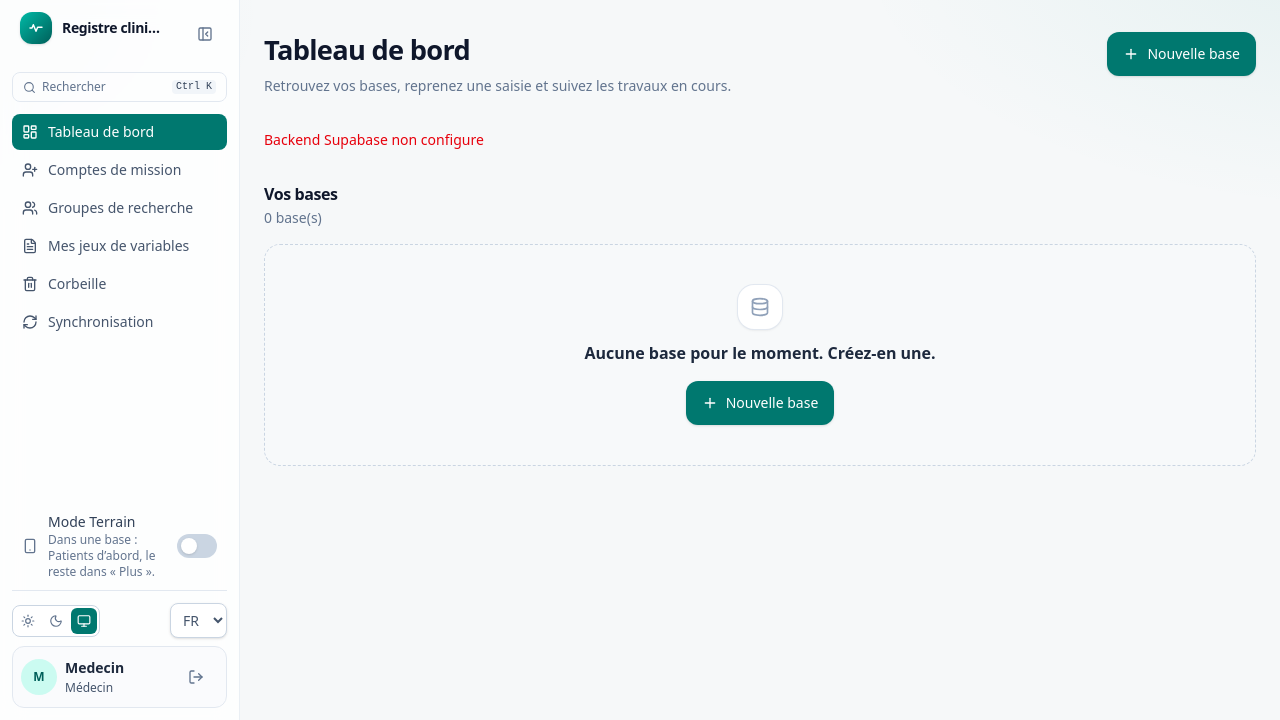
Test: gating par role › deconnexion -> retour a l ecran de connexion
Expected: the heading "Tableau de bord" is shown, 264,32 -> 470,68
What coordinates should you click on to do the following:
click the button named "Se déconnecter"
I would click on:
 (196, 677)
Its box is 174,655 -> 218,699.
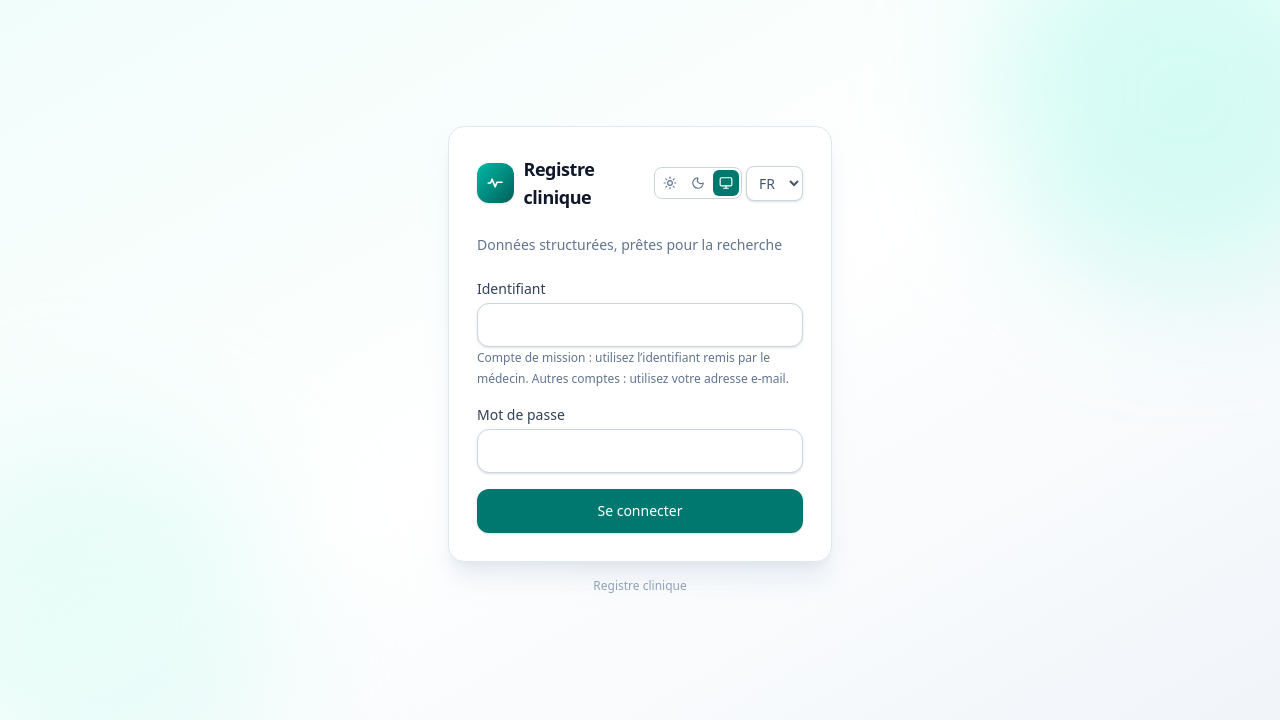
Expected: the button "Se connecter" is shown, 477,489 -> 803,533
